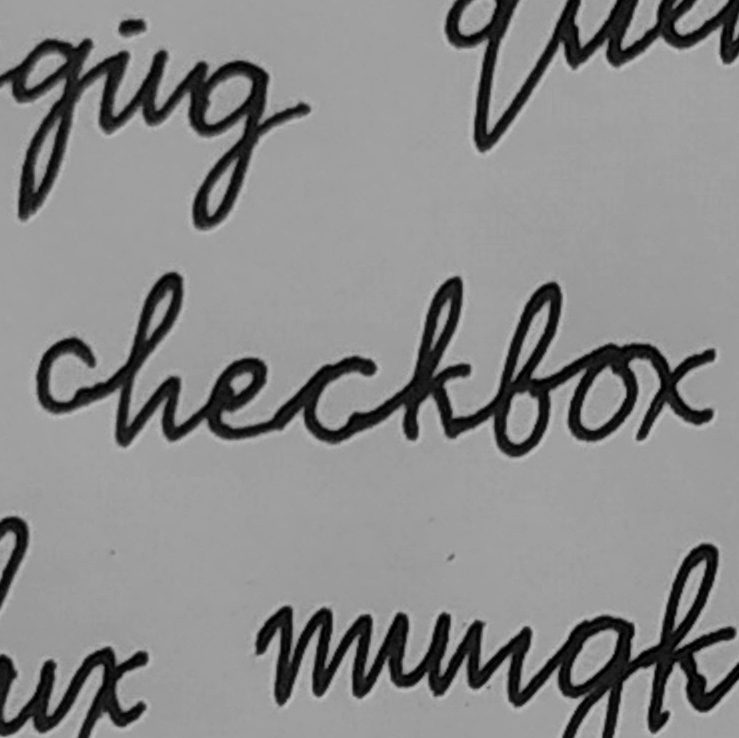b: (489, 279, 566, 462)
c: (297, 348, 388, 447), (32, 332, 101, 418)
e: (200, 348, 275, 445)
h: (110, 269, 190, 452)
k: (395, 270, 477, 449)
o: (563, 337, 641, 445)
x: (624, 333, 723, 445)
